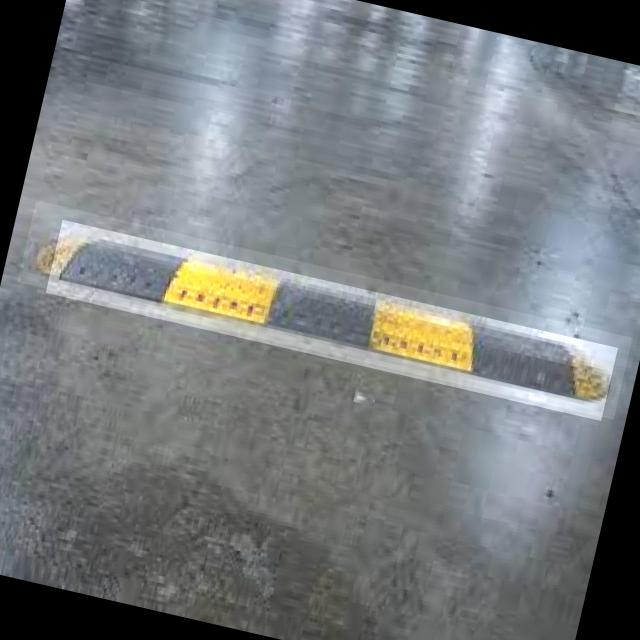bump: (45, 220, 618, 420)
